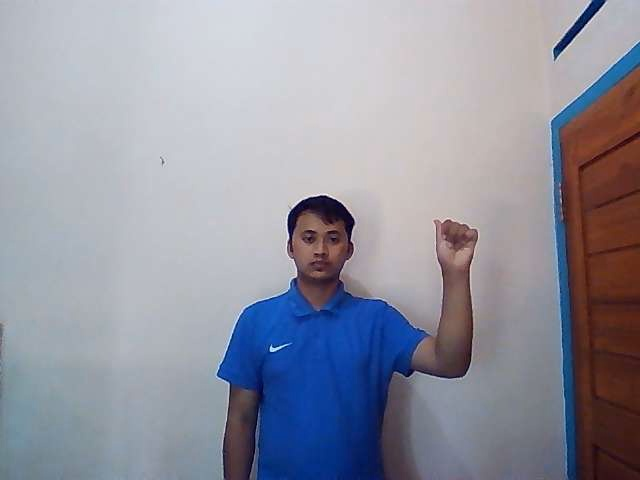A: (433, 218, 479, 270)
